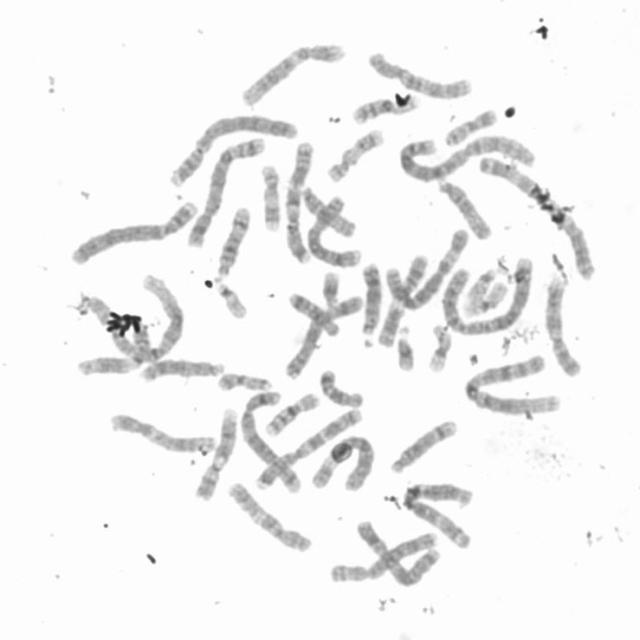A1: (86, 272, 187, 365), (463, 352, 562, 414)
A2: (439, 254, 533, 338), (395, 134, 536, 183)
A3: (477, 156, 598, 284), (401, 480, 472, 552)
B4: (170, 113, 300, 187), (68, 198, 198, 268)
B5: (184, 135, 268, 250), (239, 388, 301, 497)
C10: (226, 481, 315, 554), (365, 51, 474, 102)
C11: (376, 251, 429, 350), (76, 322, 152, 376)
C12: (238, 41, 348, 109), (109, 413, 217, 454)
C6: (386, 226, 471, 312), (310, 434, 375, 492)
C7: (254, 405, 364, 493), (281, 140, 317, 265)
C8: (329, 529, 439, 584), (306, 193, 362, 268)
C9: (194, 407, 238, 501), (544, 275, 583, 379)
D13: (140, 356, 225, 384), (358, 261, 382, 350)
D14: (387, 420, 458, 475), (217, 205, 251, 278)
D15: (434, 179, 496, 243), (301, 184, 358, 238)
E16: (262, 390, 322, 440), (349, 93, 419, 126)
E17: (325, 128, 385, 185), (258, 162, 283, 232)
E18: (287, 292, 340, 338), (320, 368, 364, 408)
F19: (462, 278, 509, 320), (425, 322, 454, 374)
F20: (442, 106, 501, 148), (217, 370, 274, 394)
G21: (318, 267, 342, 311), (395, 324, 415, 373)
G22: (212, 274, 250, 320), (464, 266, 496, 304)
X: (282, 293, 365, 382), (353, 518, 441, 588)
